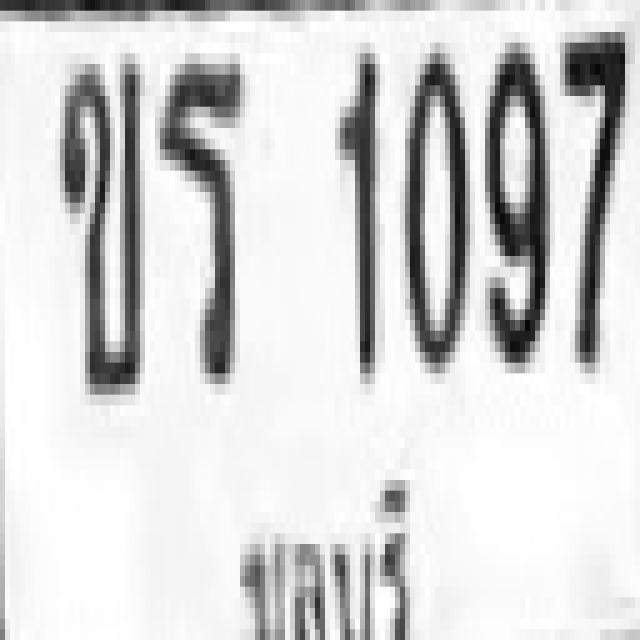-: (55, 53, 140, 384), (155, 54, 240, 374)
0: (400, 42, 465, 362)
1: (335, 43, 375, 373)
7: (560, 21, 625, 363)
9: (480, 32, 545, 363)
CBI: (213, 466, 440, 640)
